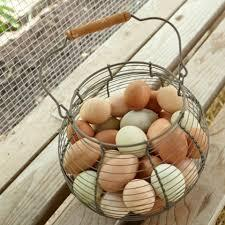egg: (93, 152, 136, 190), (149, 163, 187, 201), (60, 138, 101, 170), (160, 124, 188, 166), (125, 178, 155, 216), (80, 93, 112, 125), (124, 77, 151, 109), (114, 124, 146, 151), (118, 107, 154, 131), (155, 83, 182, 112)
